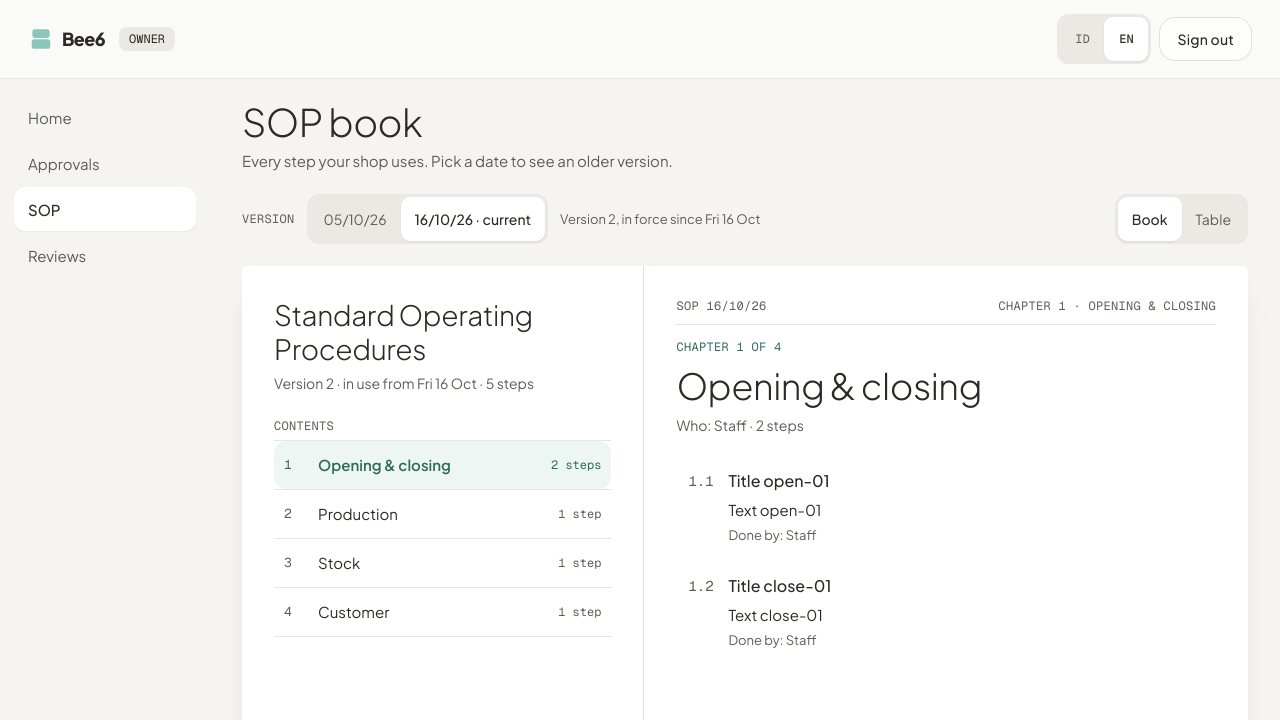
Scenario: SopApp Book/Table toggle (R-19 PR-9b §9.1) › the open chapter survives a Book -> Table -> Book round trip
The image size is (1280, 720).
Expected: the element named "View" is shown, [1115, 194, 1248, 244]
Click the button "Stock 1 step" at (339, 563), box [274, 538, 611, 586]
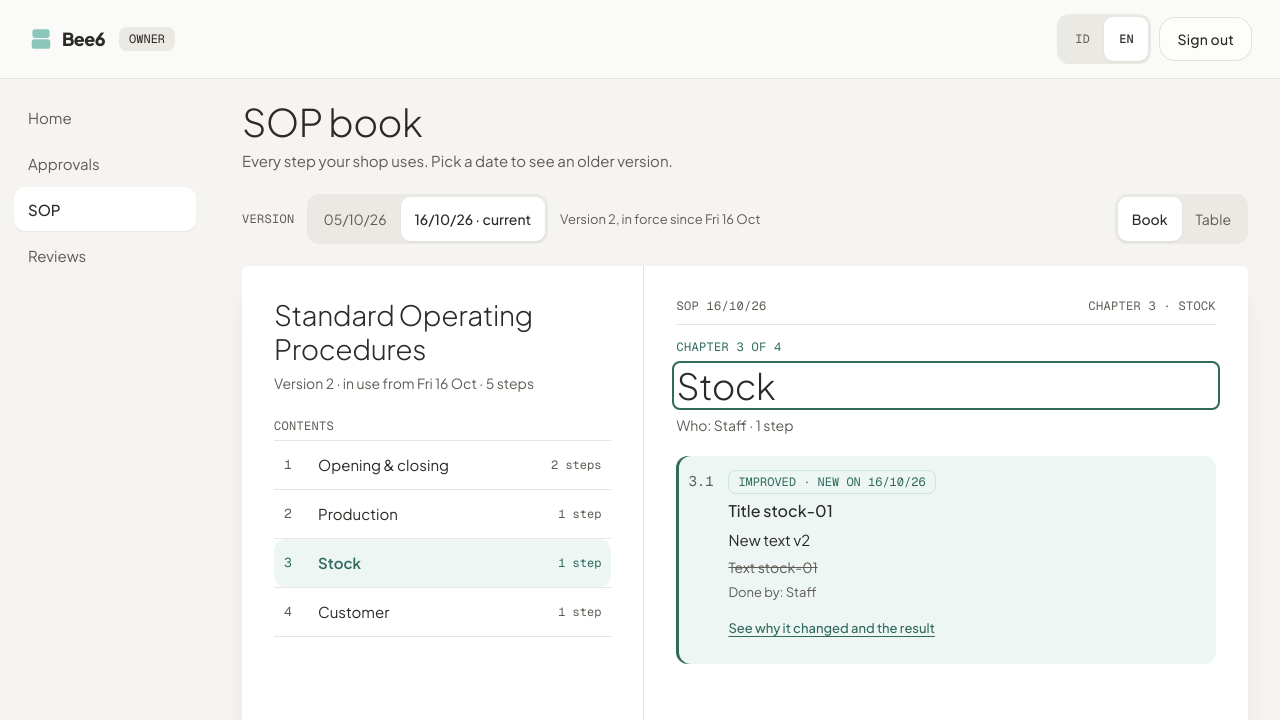
Click the button "Table" at (1213, 219), box [1182, 197, 1245, 241]
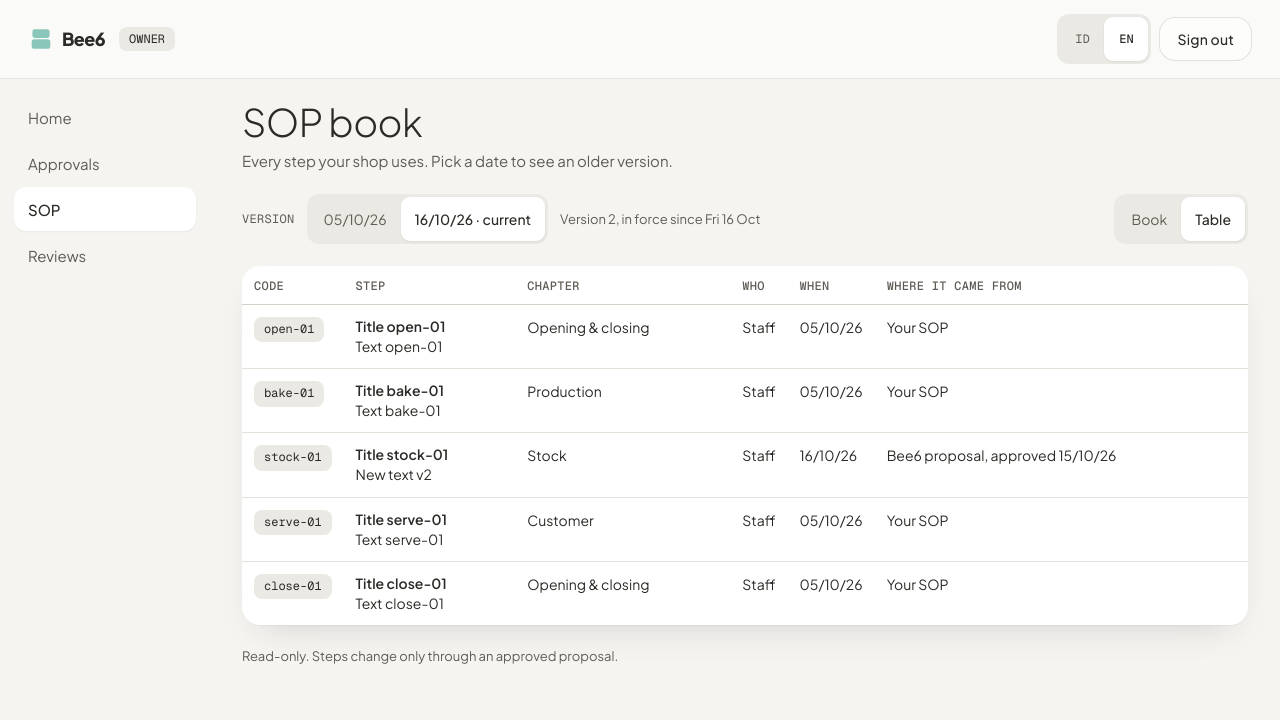
Now the text "Contents" is gone
Click the button "Book" at (1149, 219), box [1118, 197, 1181, 241]
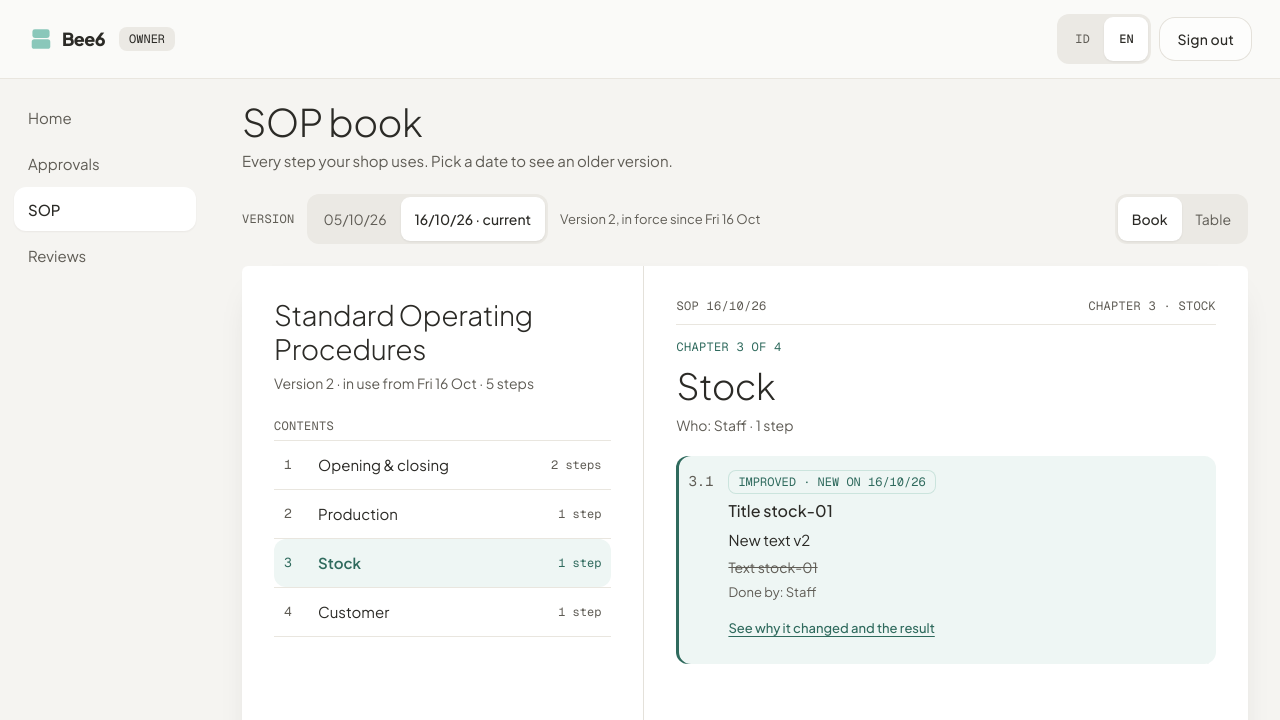
Now the heading "Stock" is shown, box [676, 363, 775, 408]
